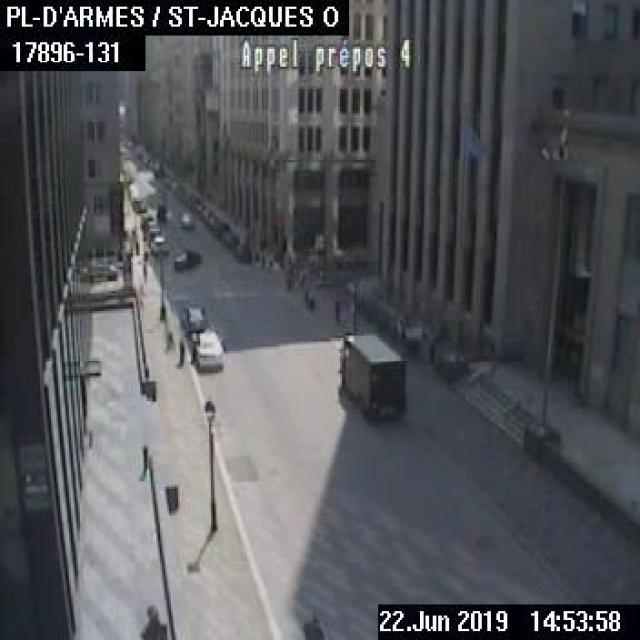vehicle: (336, 331, 406, 418), (192, 328, 221, 368), (180, 300, 203, 332), (78, 262, 115, 278), (173, 246, 200, 266), (219, 227, 238, 247), (150, 235, 166, 253), (177, 210, 193, 227), (144, 220, 159, 236)
